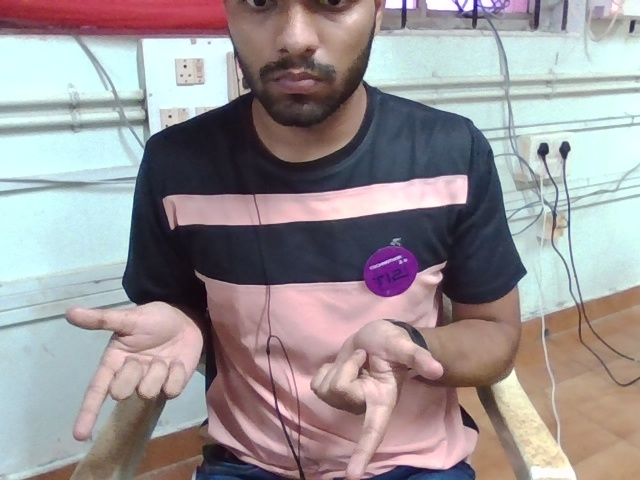go: (56, 290, 455, 480)
